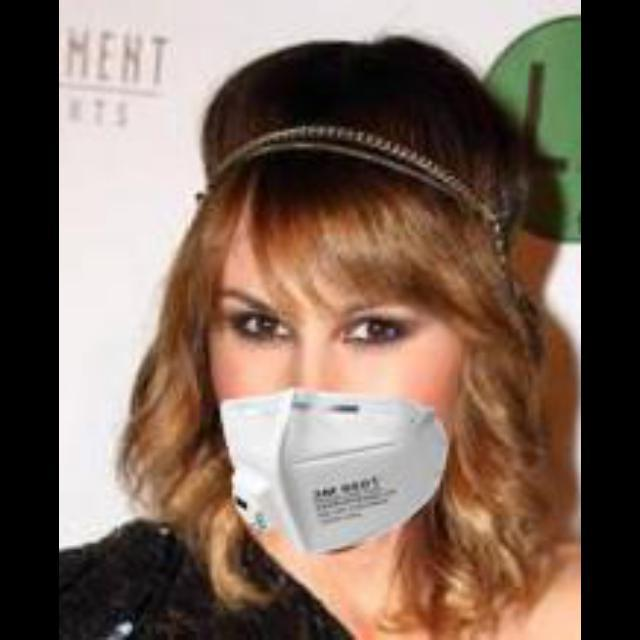suspicion: (192, 135, 503, 537)
